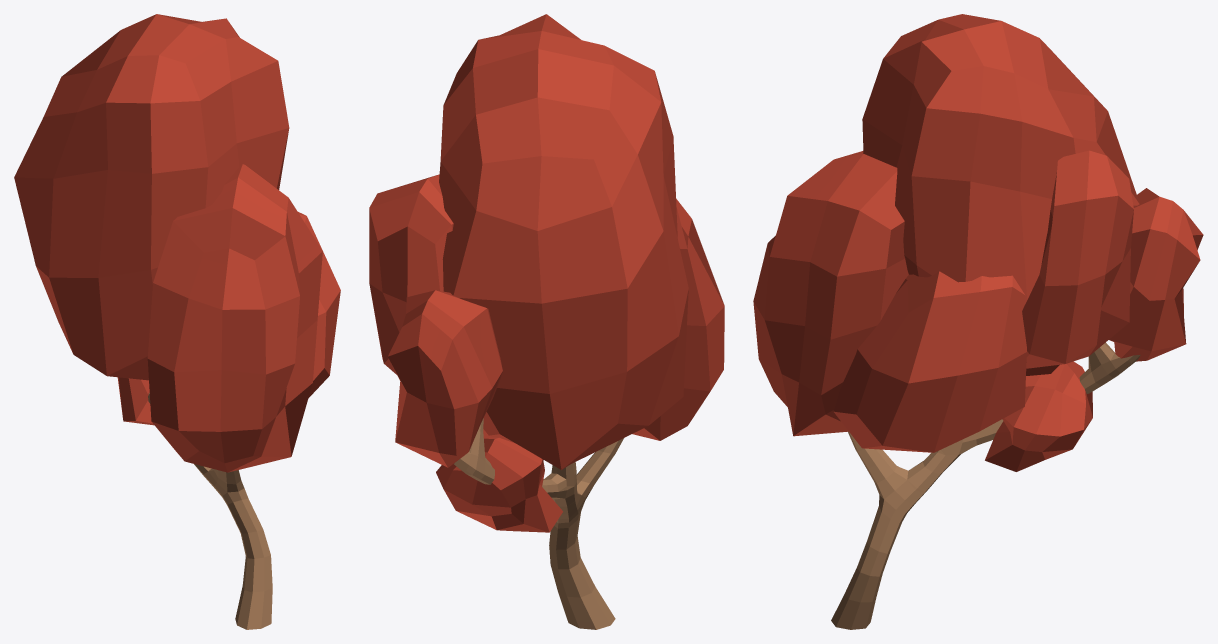
The model's file is Orange_Tree.fbx.
The picture shows the model from 3 angles, left to right: view 1: azimuth 30°, elevation 25°; view 2: azimuth 150°, elevation 25°; view 3: azimuth 270°, elevation 25°; orthographic projection. The views are drawn at different scales.
Parts seen in each view (by area): view 1: Orange_Tree_1; view 2: Orange_Tree_1; view 3: Orange_Tree_1.
Part boxes in pixels (x1,y1,x2,y2): Orange_Tree_1: [14, 14, 340, 629]; Orange_Tree_1: [369, 14, 724, 629]; Orange_Tree_1: [753, 14, 1203, 629].
Size of the model in its own units: 170 by 357 by 248.
Materials: 1 (1 with a texture image).
